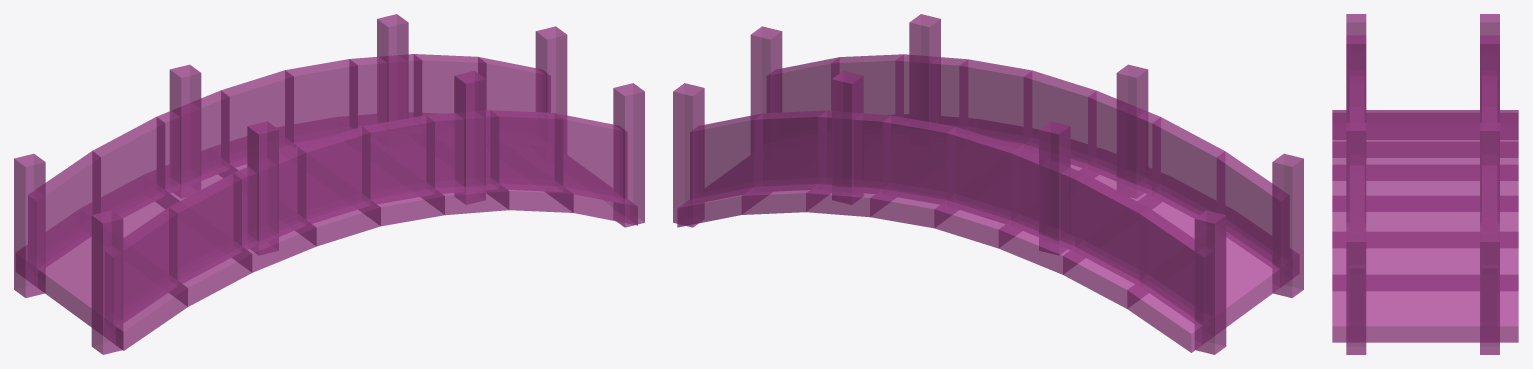
The model's file is SM_Bld_Bridge_02_Collision_01.fbx.
3 views of the same model, side by side, from view 1: azimuth 30°, elevation 25°; view 2: azimuth 150°, elevation 25°; view 3: azimuth 270°, elevation 25° (orthographic). The views are drawn at different scales.
Parts seen in each view (by area): view 1: SM_Bld_Bridge_02_Collision_01; view 2: SM_Bld_Bridge_02_Collision_01; view 3: SM_Bld_Bridge_02_Collision_01.
Part boxes in pixels (box(x1,y1,x2,y2)): SM_Bld_Bridge_02_Collision_01: box(14, 14, 644, 354); SM_Bld_Bridge_02_Collision_01: box(673, 14, 1303, 354); SM_Bld_Bridge_02_Collision_01: box(1332, 14, 1518, 354).
Size of the model in its own units: 753 by 242 by 261.
